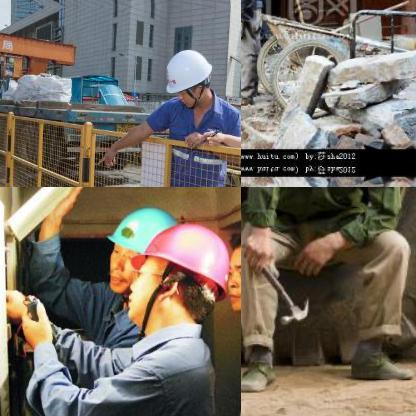Helmet: (122, 222, 221, 332), (104, 204, 176, 300), (162, 43, 216, 106)
